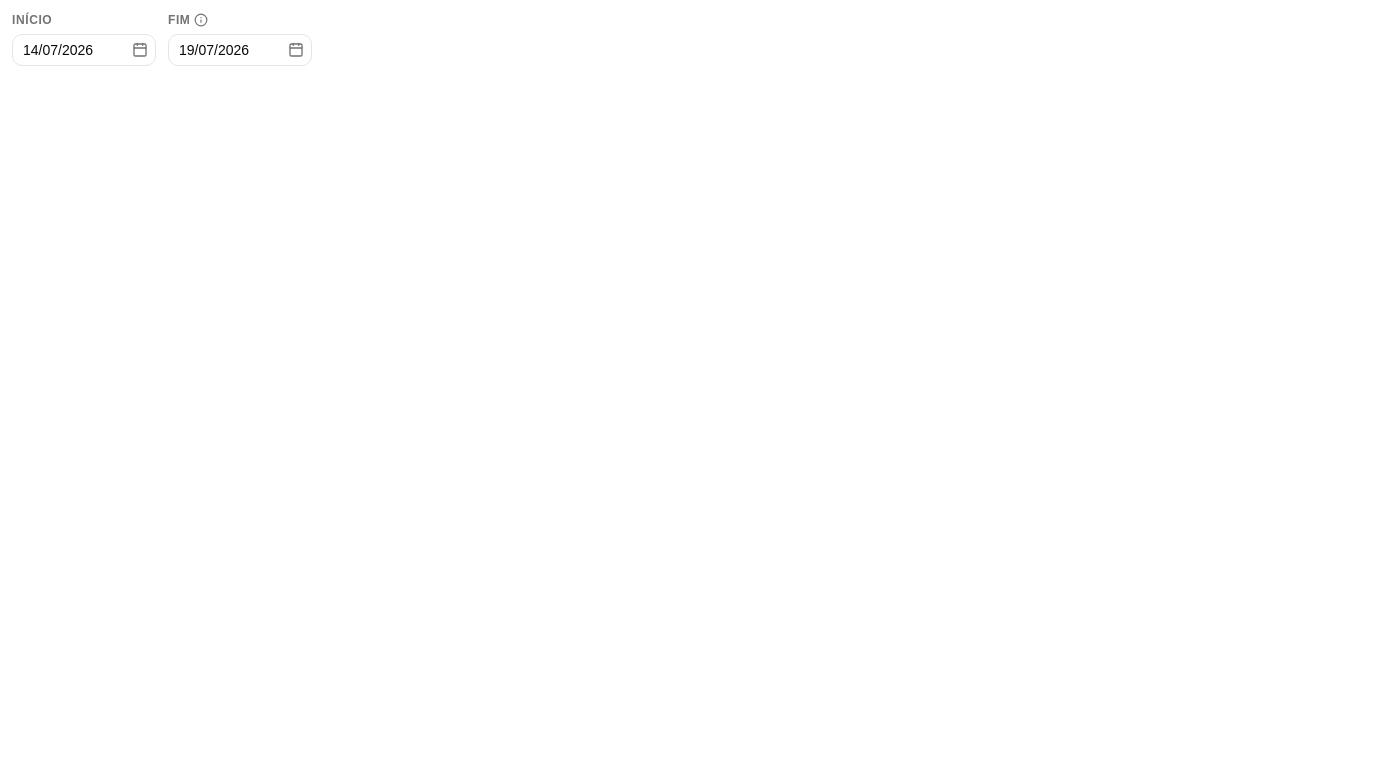
Test: DateRangeFields › toggles the hint tooltip on click and hides it on blur
Click the button named "Cotações com defasagem": [202, 20] box [194, 13, 208, 27]
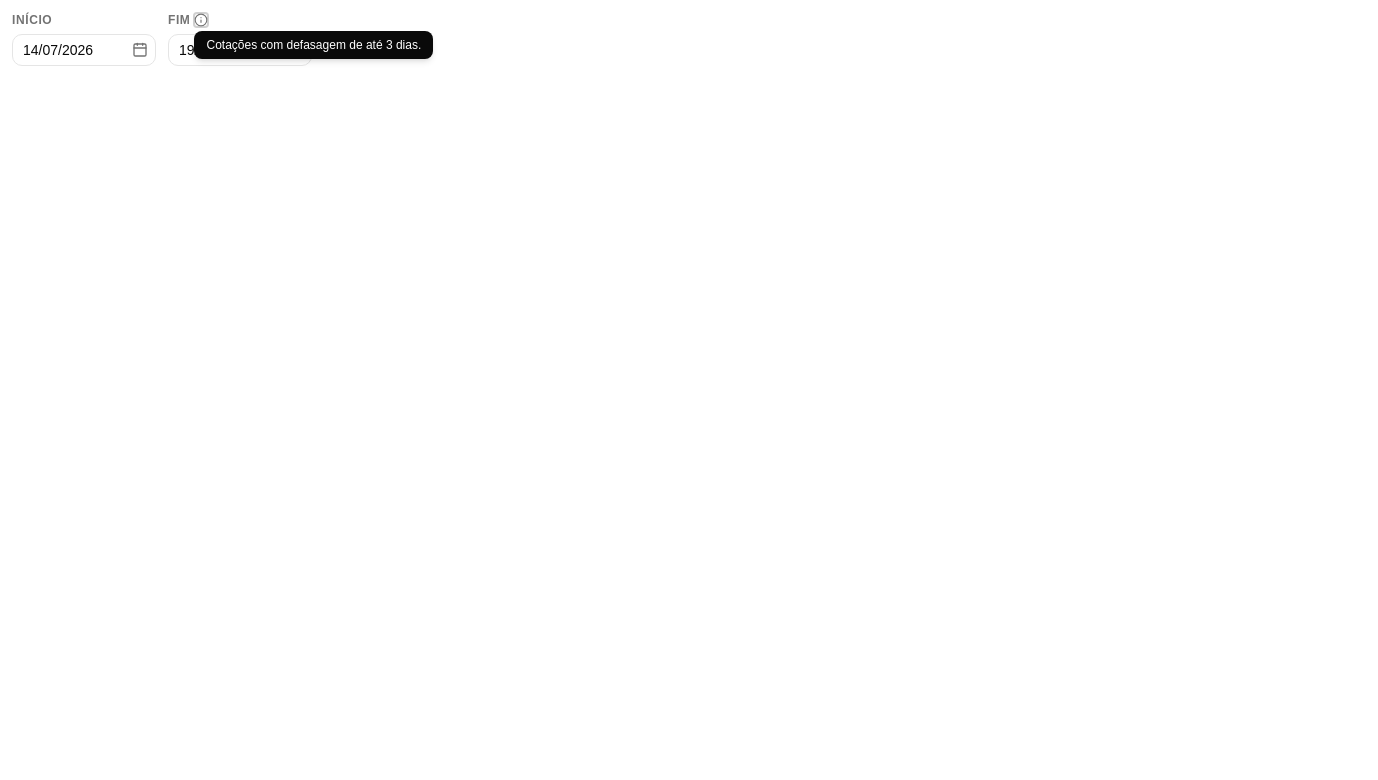
Now the tooltip shows "Cotações com defasagem", box [206, 38, 421, 52]
Click the button named "Cotações com defasagem": [202, 20] box [194, 13, 208, 27]
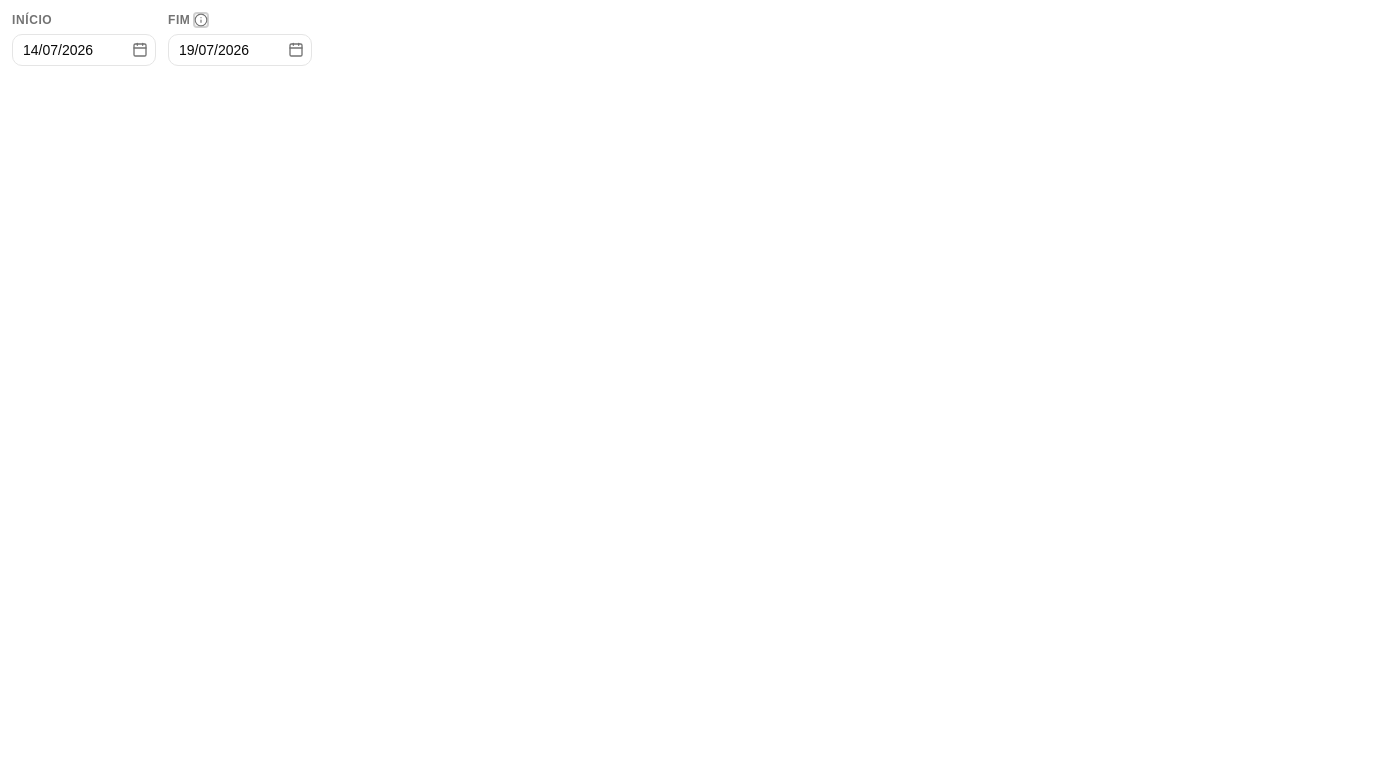
Now the tooltip "Cotações com defasagem de até 3 dias." is gone
Click the button named "Cotações com defasagem": [202, 20] box [194, 13, 208, 27]
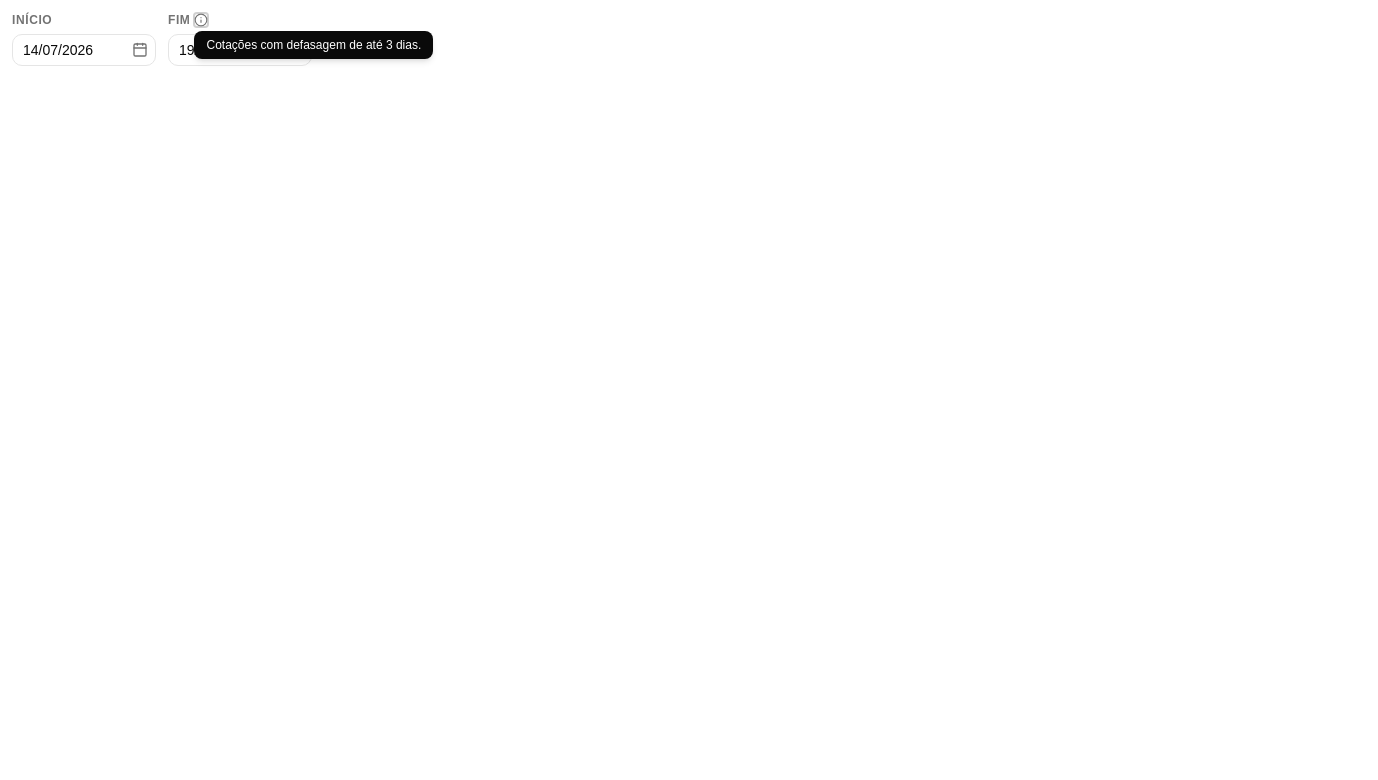
Now the tooltip "Cotações com defasagem de até 3 dias." is shown, box [194, 31, 433, 59]
Click the element showing "Início Fim Cotações com defasagem de até 3 dias.": [695, 396] box [12, 12, 1377, 779]
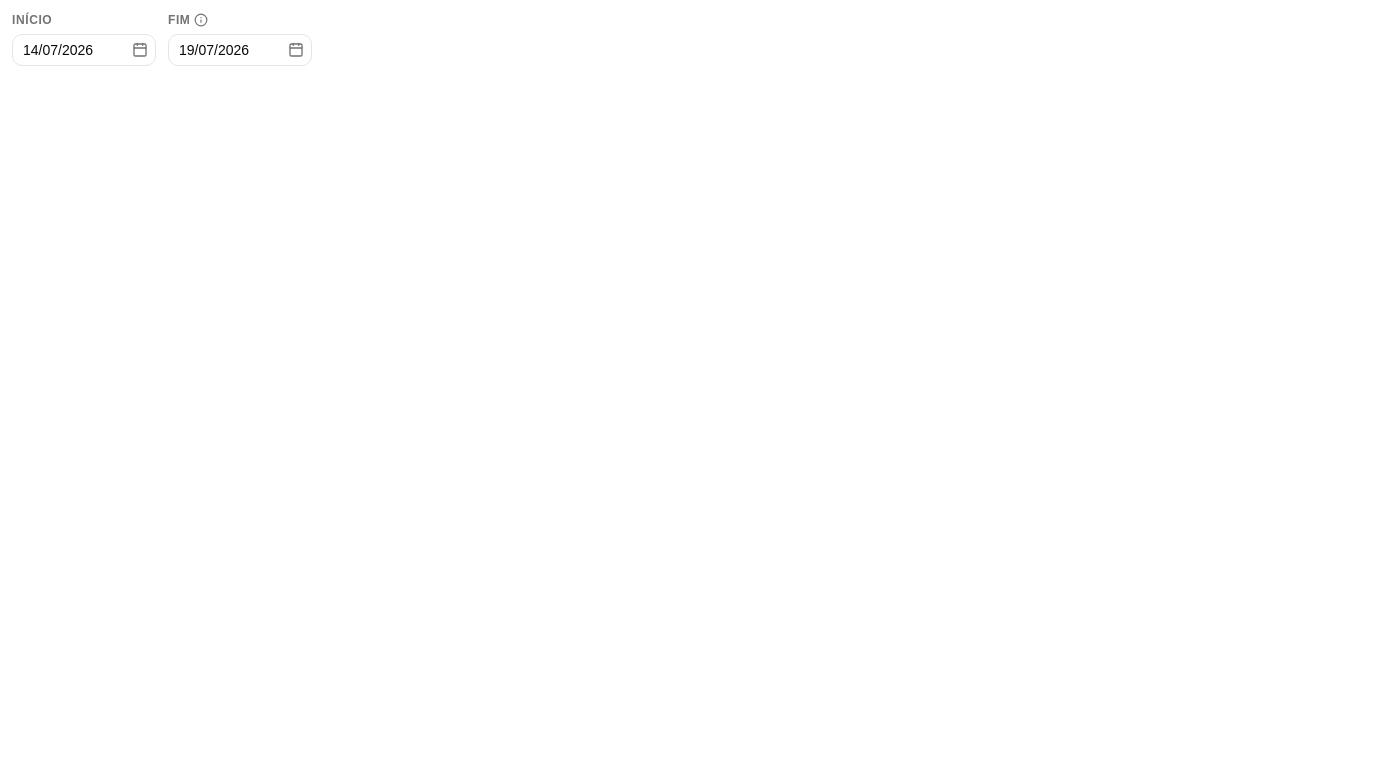
Now the tooltip "Cotações com defasagem de até 3 dias." is gone
